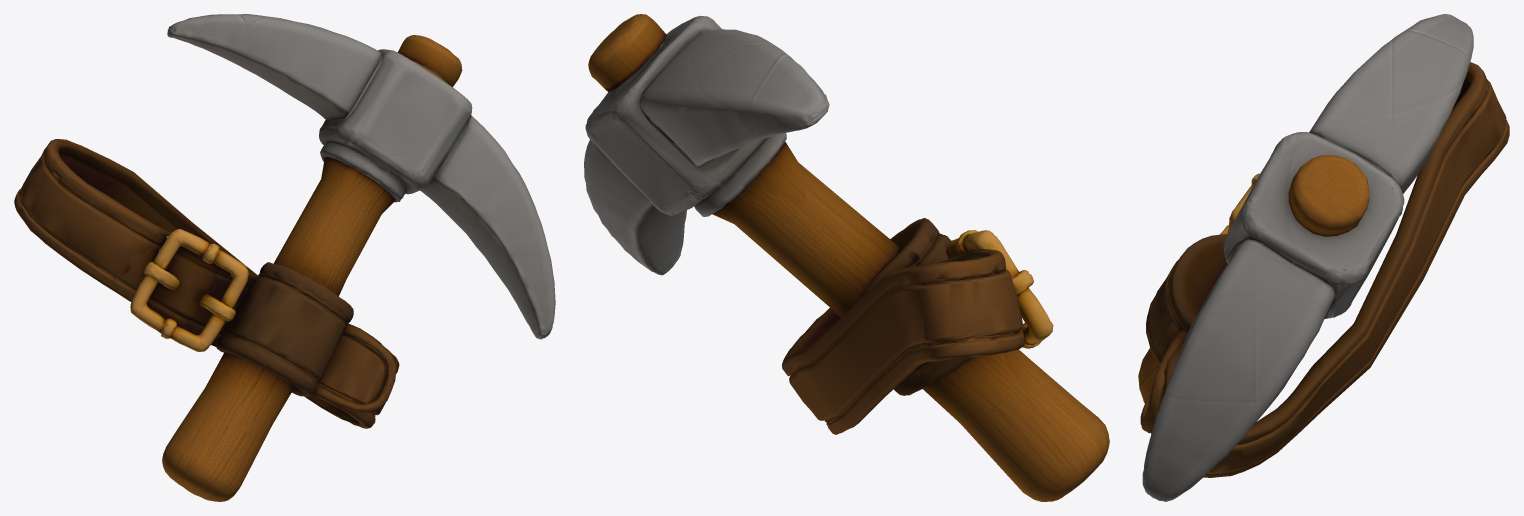
Rendered from mem_ac_pickaxe.fbx.
The picture shows the model from 3 angles, left to right: view 1: azimuth 30°, elevation 25°; view 2: azimuth 150°, elevation 25°; view 3: azimuth 270°, elevation 25°; orthographic projection. The views are drawn at different scales.
Visible parts, largest first — view 1: tripo_node_01fdf221; view 2: tripo_node_01fdf221; view 3: tripo_node_01fdf221.
Part boxes in pixels (x1,y1,x2,y2): tripo_node_01fdf221: (14,14,555,501); tripo_node_01fdf221: (584,14,1109,501); tripo_node_01fdf221: (1138,14,1509,501).
Bounding box in the file's own units: 0.998 × 0.8926 × 0.6465.
